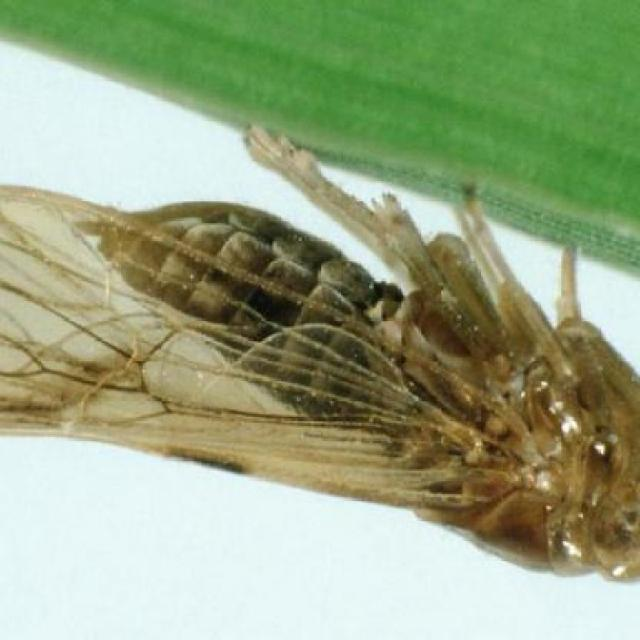brown-planthopper: (0, 120, 640, 580)
